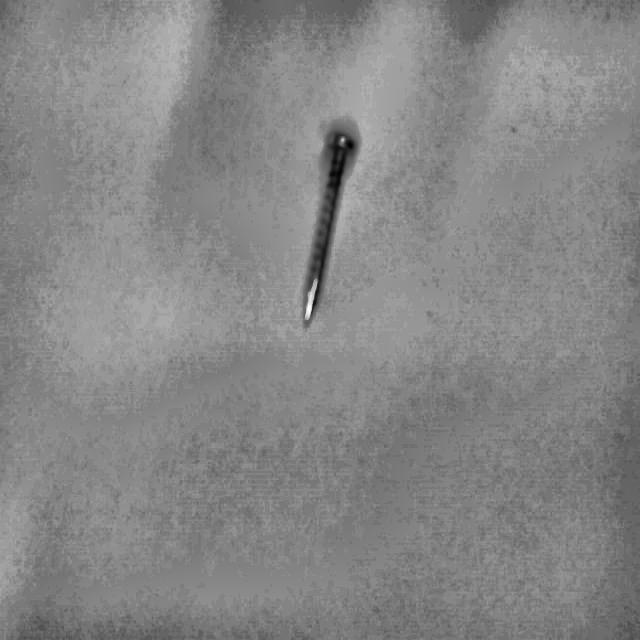Sheet metal screw: (302, 128, 354, 323)
